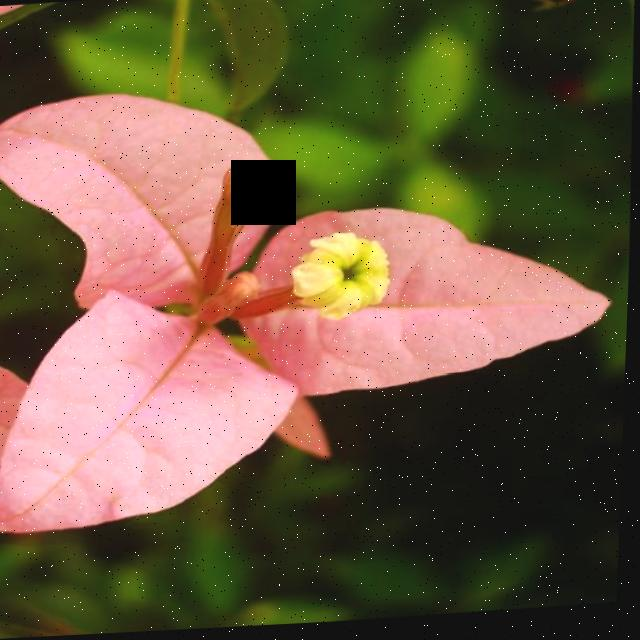bougainvillea: (0, 15, 629, 604)
